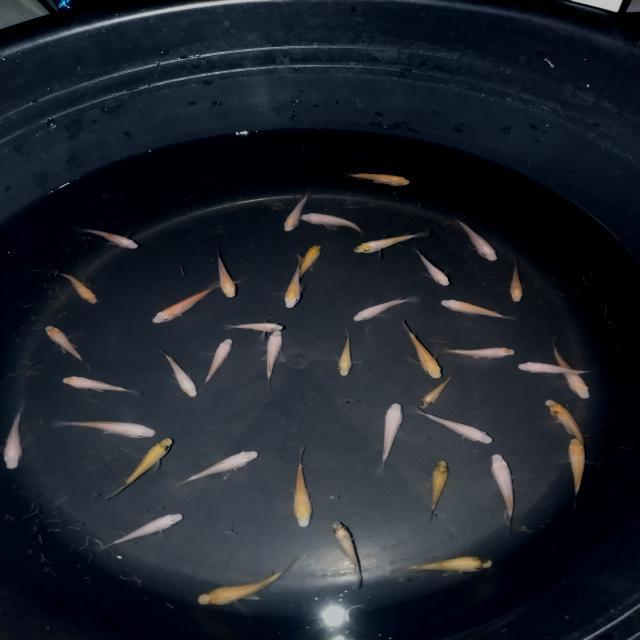nila: (192, 556, 304, 606), (95, 438, 177, 500), (536, 334, 597, 402), (86, 510, 186, 550), (178, 446, 262, 488), (414, 408, 496, 448), (325, 516, 367, 592), (146, 284, 220, 326), (368, 398, 407, 474), (443, 214, 503, 263), (152, 346, 202, 399), (394, 550, 494, 576), (543, 396, 594, 446), (490, 448, 518, 538), (558, 436, 593, 508), (58, 372, 148, 400), (56, 418, 161, 441), (288, 446, 317, 528), (436, 295, 518, 324), (294, 209, 372, 239), (418, 458, 452, 526), (44, 321, 92, 369), (0, 397, 30, 473), (348, 227, 432, 254), (255, 328, 289, 394), (404, 324, 443, 380), (74, 221, 143, 252), (199, 336, 239, 389), (349, 293, 419, 322), (210, 244, 244, 302), (408, 248, 456, 288), (418, 368, 460, 411), (507, 358, 606, 376), (280, 184, 316, 232), (53, 268, 100, 304), (338, 170, 418, 190), (278, 253, 306, 310), (332, 326, 359, 384), (293, 242, 326, 282), (436, 344, 517, 360), (506, 260, 530, 303), (218, 319, 291, 332)
